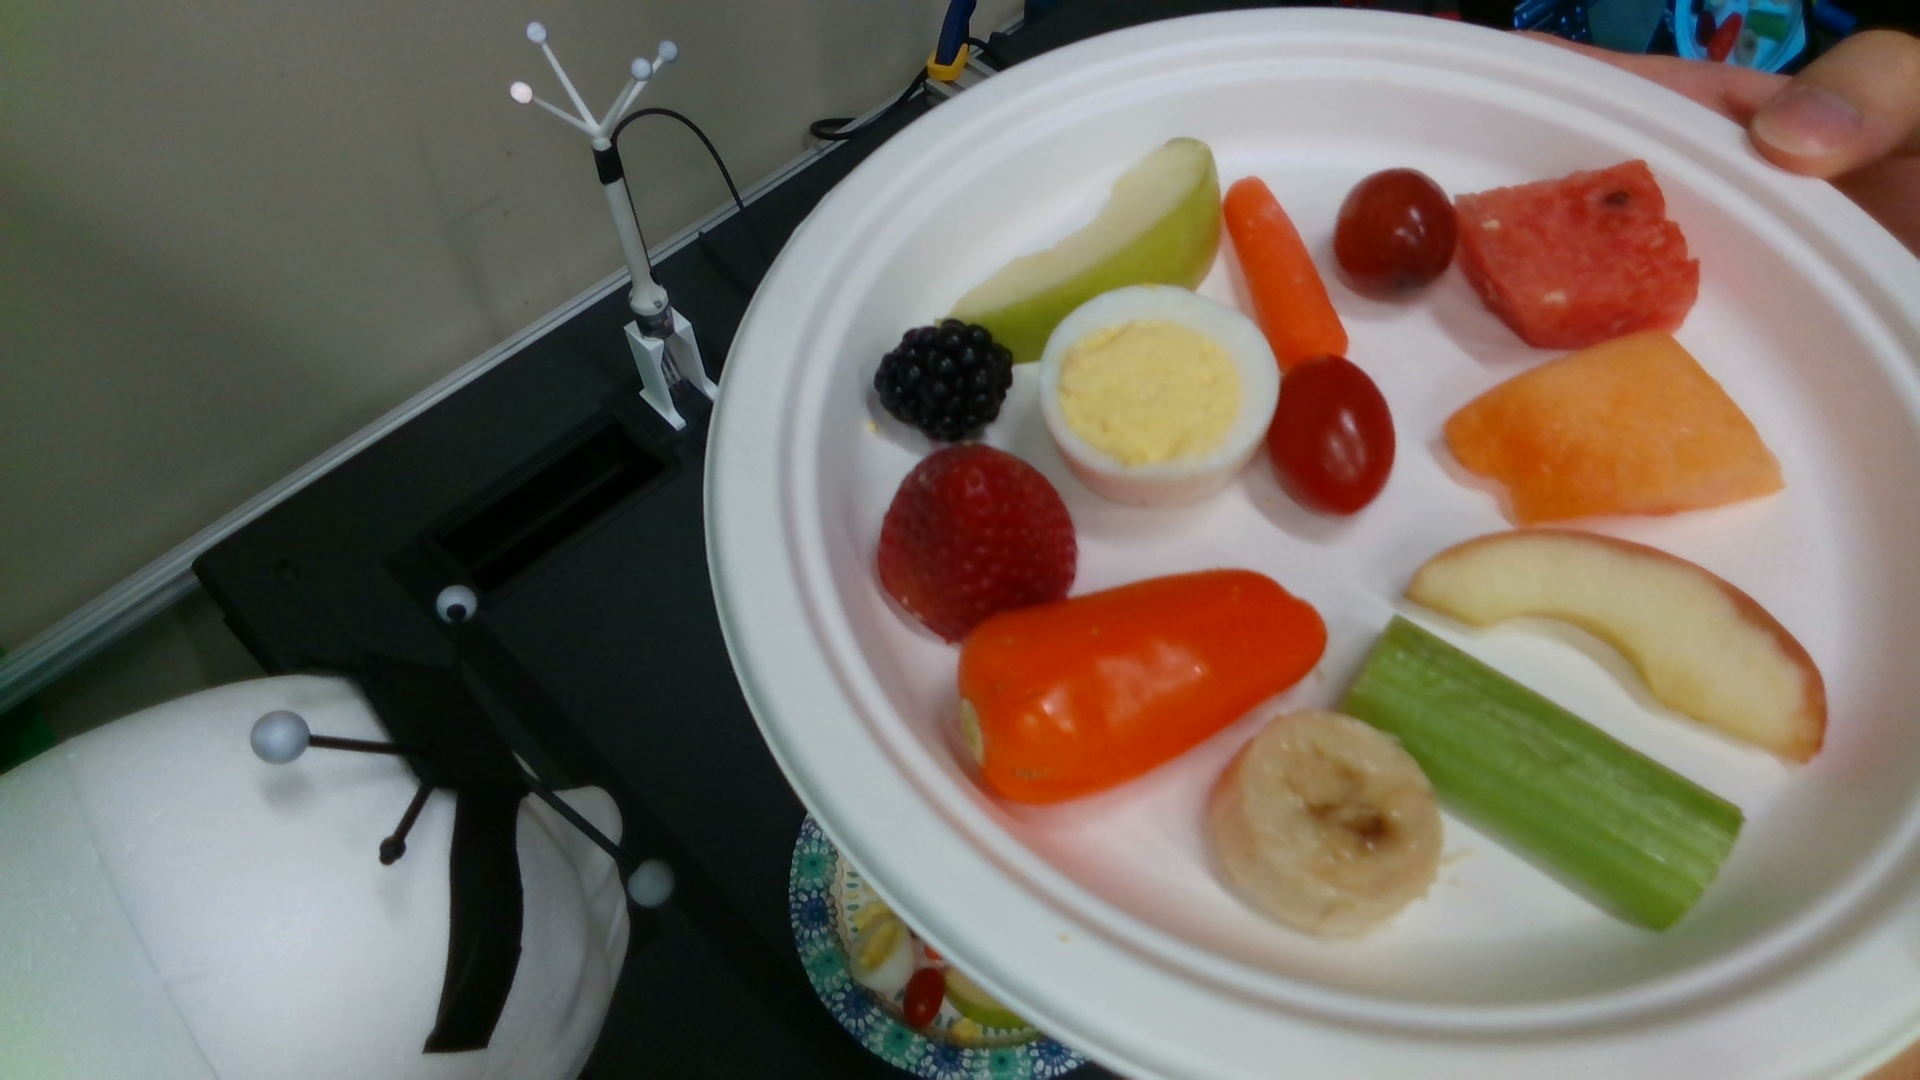apple: (1408, 530, 1826, 761), (956, 140, 1221, 363)
banana: (1215, 715, 1439, 928)
bell_pepper: (961, 574, 1324, 802)
blackberry: (881, 319, 1011, 438)
cantalope: (1458, 332, 1782, 520)
carrot: (1222, 177, 1346, 369)
celery: (1344, 615, 1743, 932)
cherry_tomato: (1271, 356, 1393, 513), (907, 969, 944, 1025)
egg: (1040, 284, 1278, 505), (851, 920, 913, 988)
grape_purple: (1337, 170, 1457, 291)
melon: (1456, 162, 1698, 348)
strawberry: (882, 444, 1077, 637)
